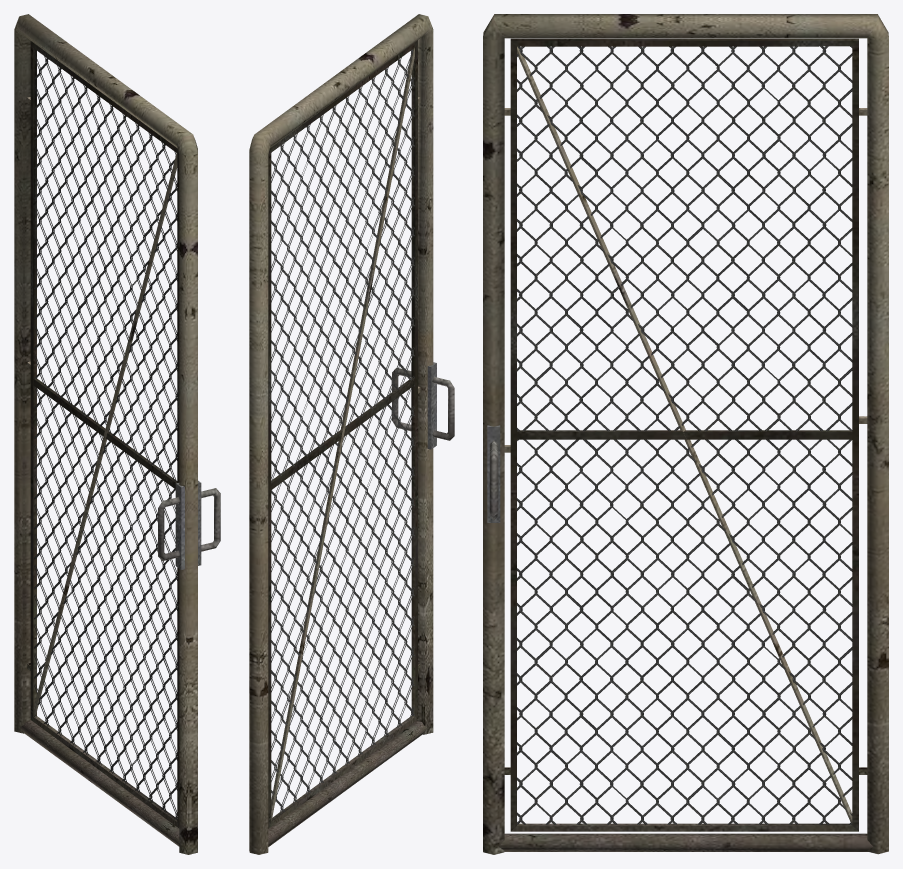
File: interior_fence001g.glb
The picture shows the model from 3 angles, left to right: view 1: azimuth 30°, elevation 25°; view 2: azimuth 150°, elevation 25°; view 3: azimuth 270°, elevation 25°; orthographic projection. The views are drawn at different scales.
Parts seen in each view (by area): view 1: 0_prison_yard001, 1_fence_alpha; view 2: 0_prison_yard001, 1_fence_alpha; view 3: 0_prison_yard001, 1_fence_alpha.
Part boxes in pixels (left/top/right/bottom): 0_prison_yard001: left=14, top=14, right=220, bottom=854; 1_fence_alpha: left=34, top=49, right=177, bottom=820; 0_prison_yard001: left=249, top=14, right=454, bottom=854; 1_fence_alpha: left=271, top=49, right=414, bottom=814; 0_prison_yard001: left=483, top=14, right=888, bottom=854; 1_fence_alpha: left=517, top=46, right=852, bottom=824.
Size of the model in its own units: 0.2445 by 2.67 by 1.18.
Materials: 2 (2 with a texture image).
